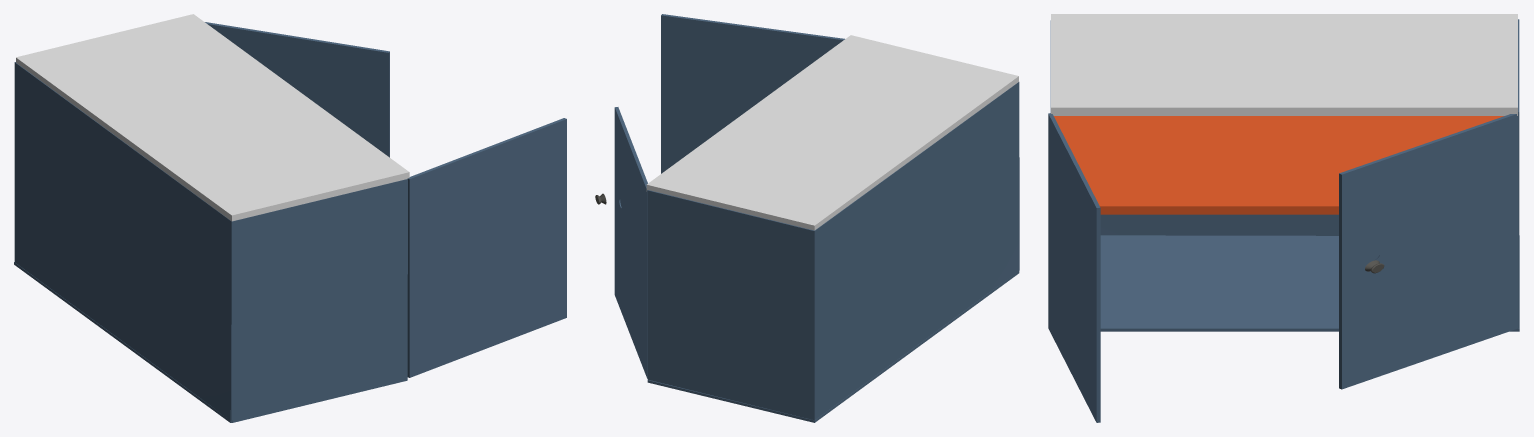
Rendered from locker.fbx.
3 views of the same model, side by side, from view 1: azimuth 30°, elevation 25°; view 2: azimuth 150°, elevation 25°; view 3: azimuth 270°, elevation 25° (orthographic). The views are drawn at different scales.
Parts seen in each view (by area): view 1: Cube.006, Cube.042, DOOR.012, DOOR.013; view 2: Cube.006, Cube.042, DOOR.012, DOOR.013; view 3: Cube.042, DOOR.013, Cube.043, Cube.006, DOOR.012.
Part boxes in pixels (x1=…): Cube.006: x1=14, y1=62, x2=407, y2=422; Cube.042: x1=16, y1=14, x2=409, y2=221; DOOR.012: x1=407, y1=118, x2=566, y2=377; DOOR.013: x1=205, y1=22, x2=389, y2=157; Cube.006: x1=647, y1=82, x2=1019, y2=422; Cube.042: x1=646, y1=35, x2=1018, y2=230; DOOR.012: x1=661, y1=14, x2=844, y2=173; DOOR.013: x1=614, y1=107, x2=647, y2=378; Cube.042: x1=1051, y1=14, x2=1517, y2=115; DOOR.013: x1=1339, y1=113, x2=1518, y2=389; Cube.043: x1=1054, y1=116, x2=1503, y2=214; Cube.006: x1=1050, y1=19, x2=1519, y2=331; DOOR.012: x1=1048, y1=113, x2=1100, y2=422.
Bounding box in the file's own units: 3718 × 2071 × 3935.
